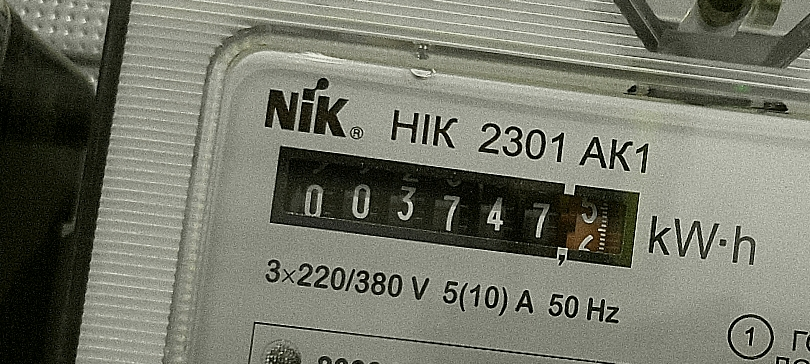0: (347, 180, 372, 220), (300, 181, 326, 218)
3: (394, 183, 416, 222)
4: (482, 192, 507, 234)
5: (577, 194, 600, 225)
6: (574, 230, 595, 253)
7: (525, 198, 552, 240), (437, 191, 461, 233)
screen: (257, 134, 656, 284)
